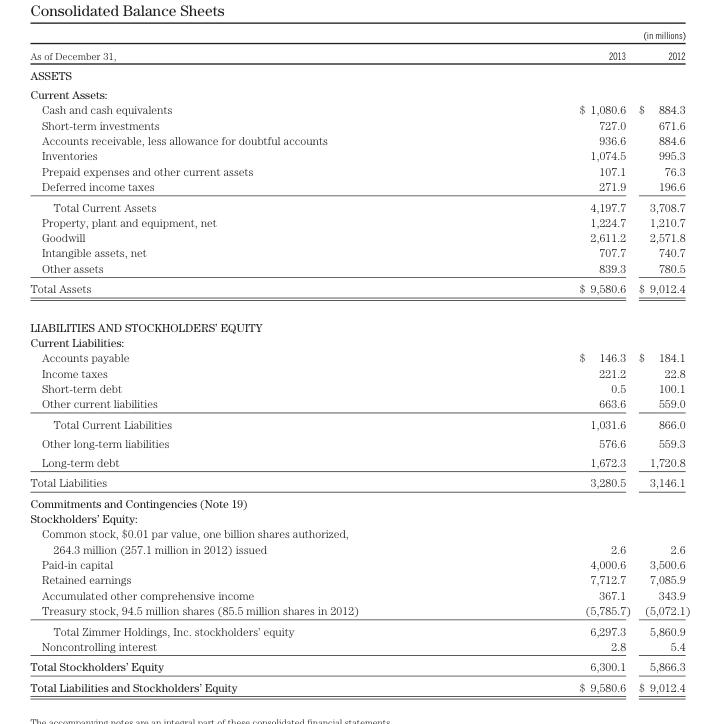table: (29, 29, 689, 693)
table column: (29, 29, 468, 693), (468, 29, 634, 693), (634, 29, 689, 693)
table column header: (29, 29, 689, 64)
table projected row header: (29, 307, 689, 334), (29, 64, 689, 84), (29, 492, 689, 510), (29, 84, 689, 101), (29, 334, 689, 349), (29, 510, 689, 525)
table row: (29, 525, 689, 556), (29, 277, 689, 307), (29, 307, 689, 334), (29, 655, 689, 676), (29, 44, 689, 64), (29, 64, 689, 84), (29, 413, 689, 433), (29, 452, 689, 472), (29, 472, 689, 492), (29, 433, 689, 452), (29, 178, 689, 196), (29, 196, 689, 214), (29, 395, 689, 413), (29, 492, 689, 510), (29, 602, 689, 620), (29, 620, 689, 638), (29, 84, 689, 101), (29, 260, 689, 277), (29, 638, 689, 655), (29, 676, 689, 693), (29, 101, 689, 117), (29, 162, 689, 178), (29, 244, 689, 260), (29, 364, 689, 380), (29, 586, 689, 602), (29, 29, 689, 44), (29, 117, 689, 132), (29, 132, 689, 147), (29, 147, 689, 162), (29, 214, 689, 229), (29, 229, 689, 244), (29, 334, 689, 349), (29, 349, 689, 364), (29, 380, 689, 395), (29, 510, 689, 525), (29, 556, 689, 571), (29, 571, 689, 586)
table spanning cell: (29, 29, 468, 64), (468, 29, 689, 44)
